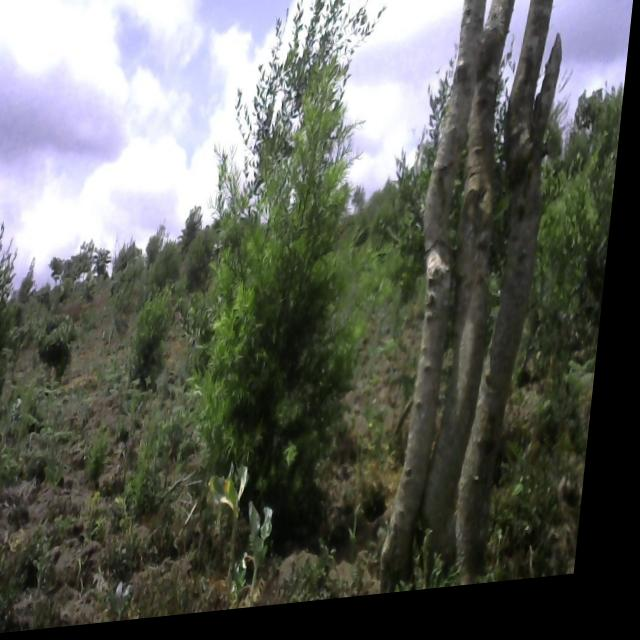Podocarpus falcatus: (210, 67, 362, 548)
Salix alba: (233, 0, 384, 207), (396, 40, 461, 260), (0, 212, 35, 343)
other: (43, 309, 93, 383), (185, 204, 210, 253)
